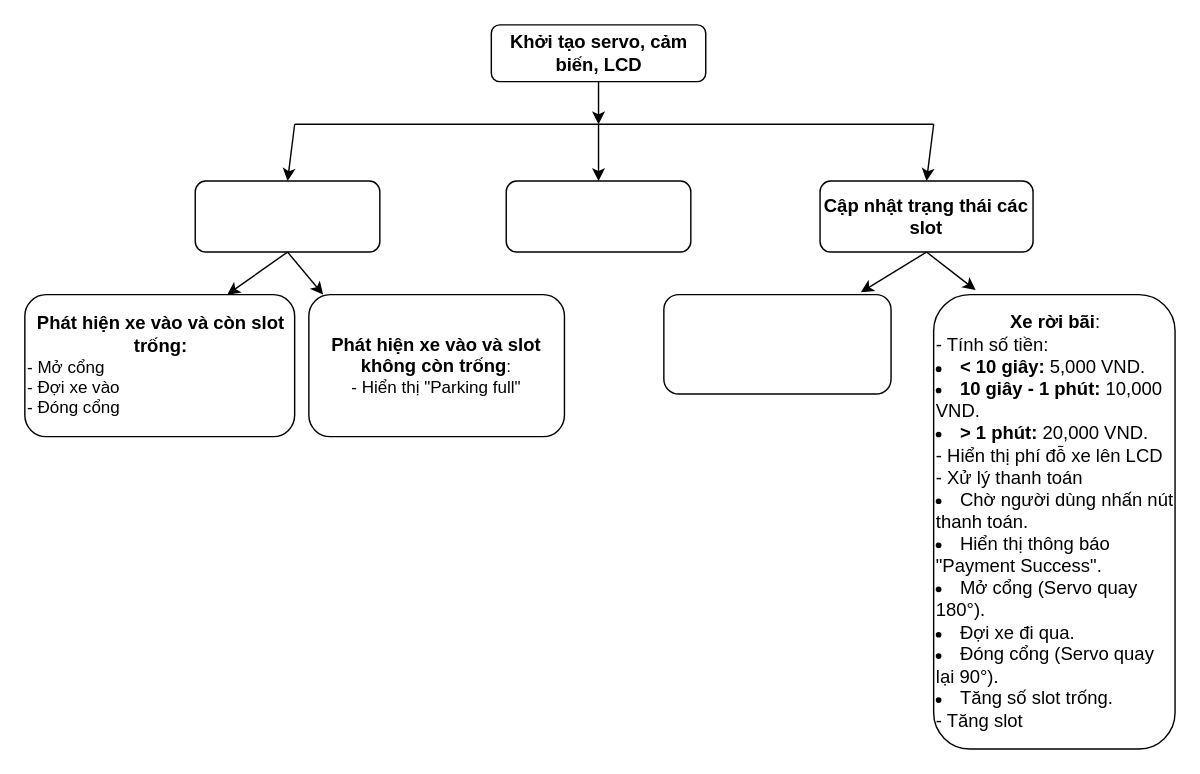
The diagram is 1200 pixels wide and 774 high, and some of its shapes have lost their labels. The centre of each missing label's shape, as x and y in pixels:
"Hiển thị trạng thái slot lên LCD" goes at [598,216].
"Xe mới vào đỗ : - Ghi lại thời gian xe vào - Giảm slot" goes at [776,343].
"Xử lý khi xe đi vào bãi" goes at [287,216].
